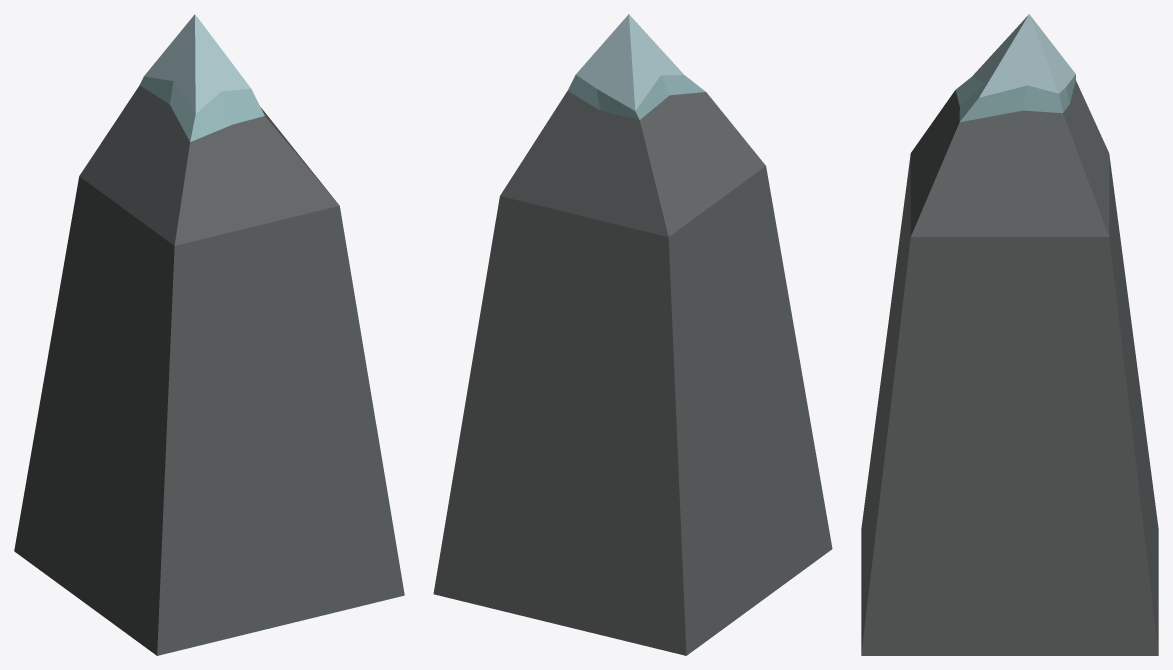
The model's file is MountainTile_3.fbx.
The picture shows the model from 3 angles, left to right: view 1: azimuth 30°, elevation 25°; view 2: azimuth 150°, elevation 25°; view 3: azimuth 270°, elevation 25°; orthographic projection. The views are drawn at different scales.
Visible parts, largest first — view 1: MountainTile_3; view 2: MountainTile_3; view 3: MountainTile_3.
Boxes of the visible parts, bbox=[...] form: MountainTile_3: bbox=[14, 14, 404, 655]; MountainTile_3: bbox=[433, 14, 832, 655]; MountainTile_3: bbox=[861, 14, 1158, 655].
Bounding box in the file's own units: 3.15 × 3.15 × 6.74.
